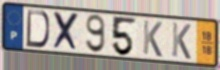5: (110, 15, 139, 57)
9: (84, 13, 107, 55)
D: (24, 8, 51, 49)
K: (142, 19, 164, 59), (171, 21, 193, 61)
X: (52, 11, 81, 53)
